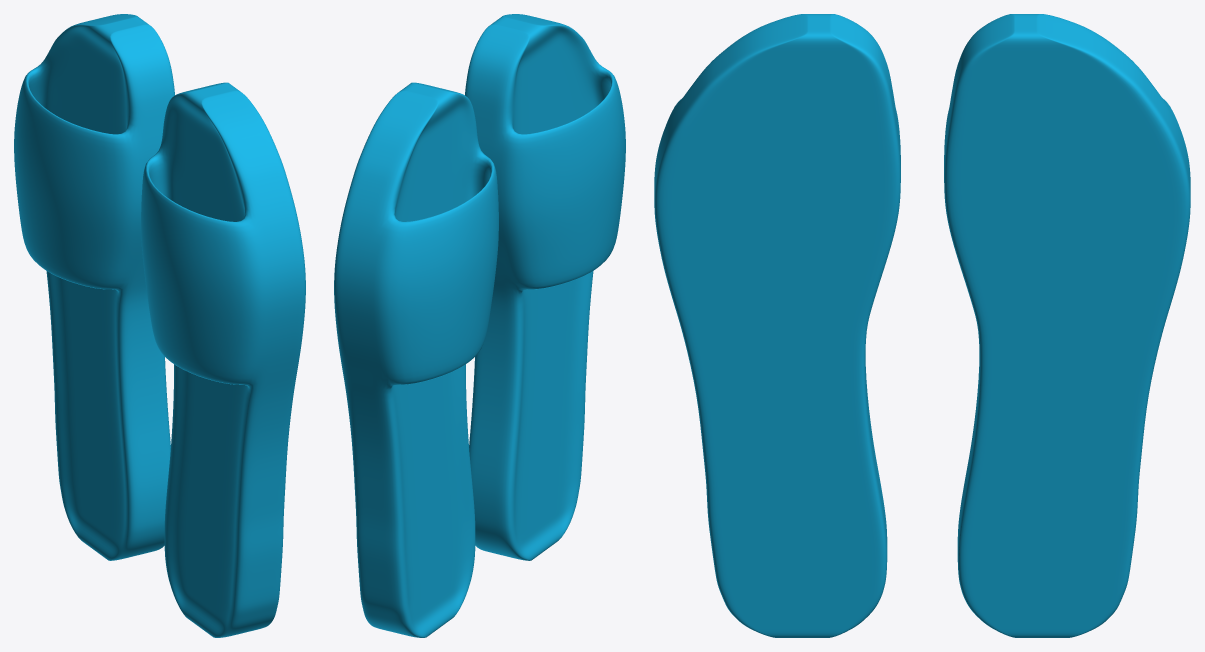
The model's file is Chinelo.fbx.
The picture shows the model from 3 angles, left to right: view 1: azimuth 30°, elevation 25°; view 2: azimuth 150°, elevation 25°; view 3: azimuth 270°, elevation 25°; orthographic projection. The views are drawn at different scales.
Visible parts, largest first — view 1: Cube; view 2: Cube; view 3: Cube.
Part boxes in pixels (bbox=[...]): Cube: bbox=[14, 14, 305, 637]; Cube: bbox=[334, 14, 625, 637]; Cube: bbox=[654, 14, 1190, 637].
Bounding box in the file's own units: 1.13 × 4.98 × 6.2.
